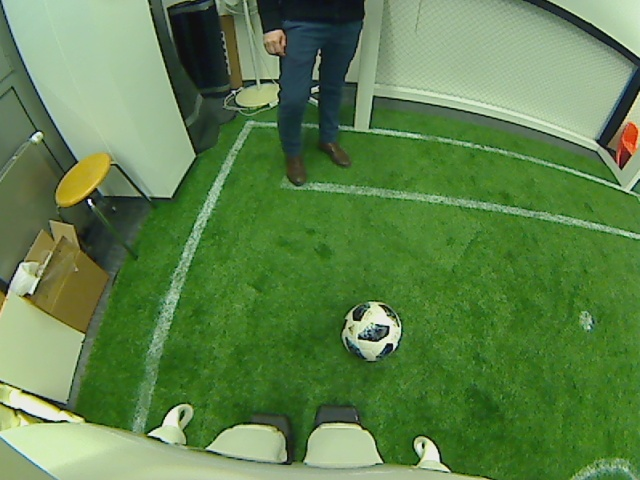ball: (339, 297, 405, 365)
